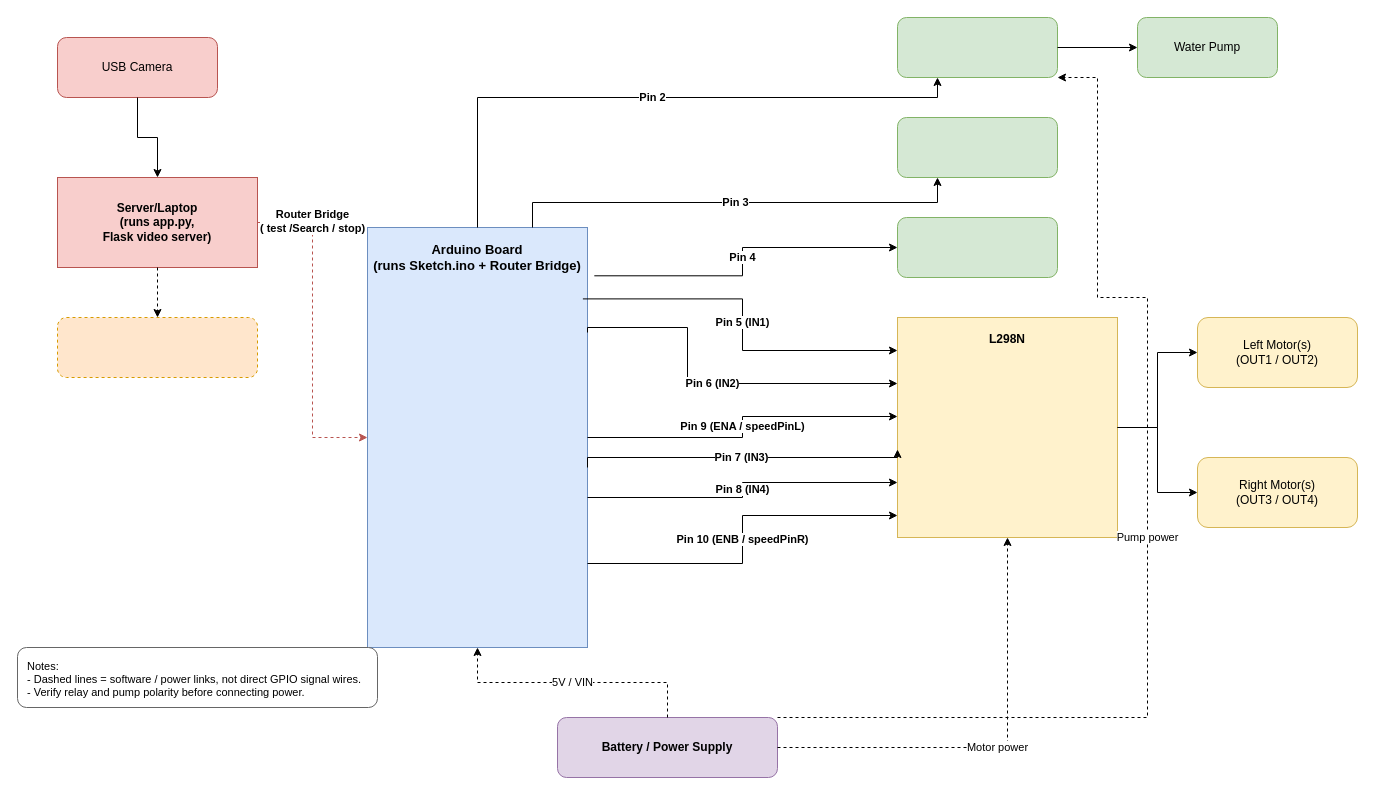
The diagram is 1375 pixels wide and 795 high, and some of its shapes have lost their labels. The shapes that lost their labels are listed below. From the top down, each one's box as (x1, y1, x2, y2) in pixels, then its label:
(896, 16, 1058, 78): Relay Module
(896, 116, 1058, 178): Buzzer
(896, 216, 1058, 278): Aiming Servo
(56, 316, 258, 378): Live Video Stream http://[ip]:5000/video
